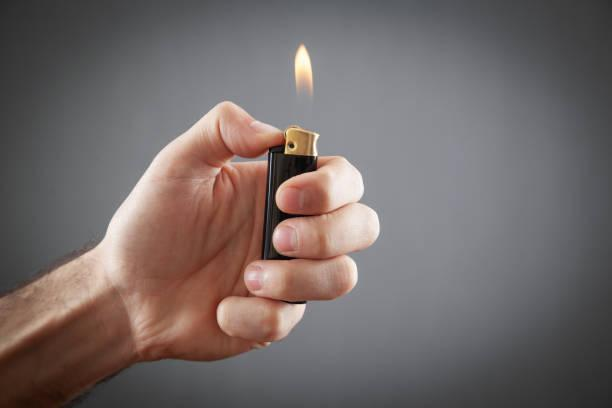Fire: (290, 41, 316, 105)
